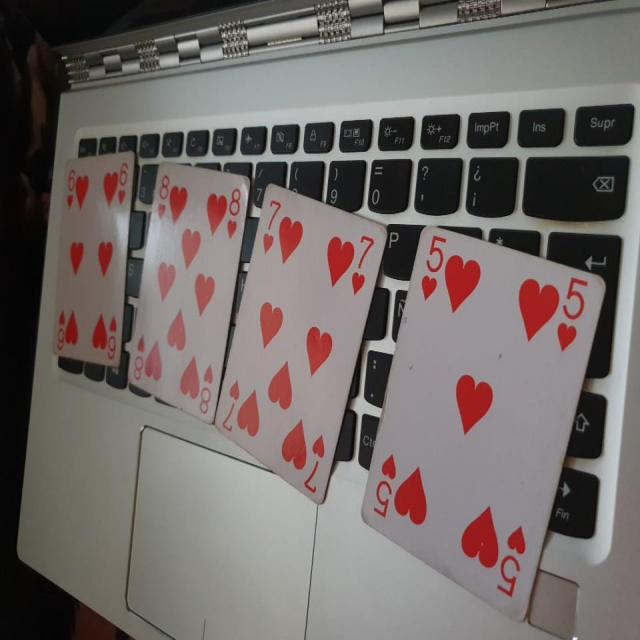5 Hearts: (353, 216, 608, 621)
6 Hearts: (54, 150, 136, 372)
7 Hearts: (215, 178, 394, 512)
8 Hearts: (122, 155, 256, 421)
